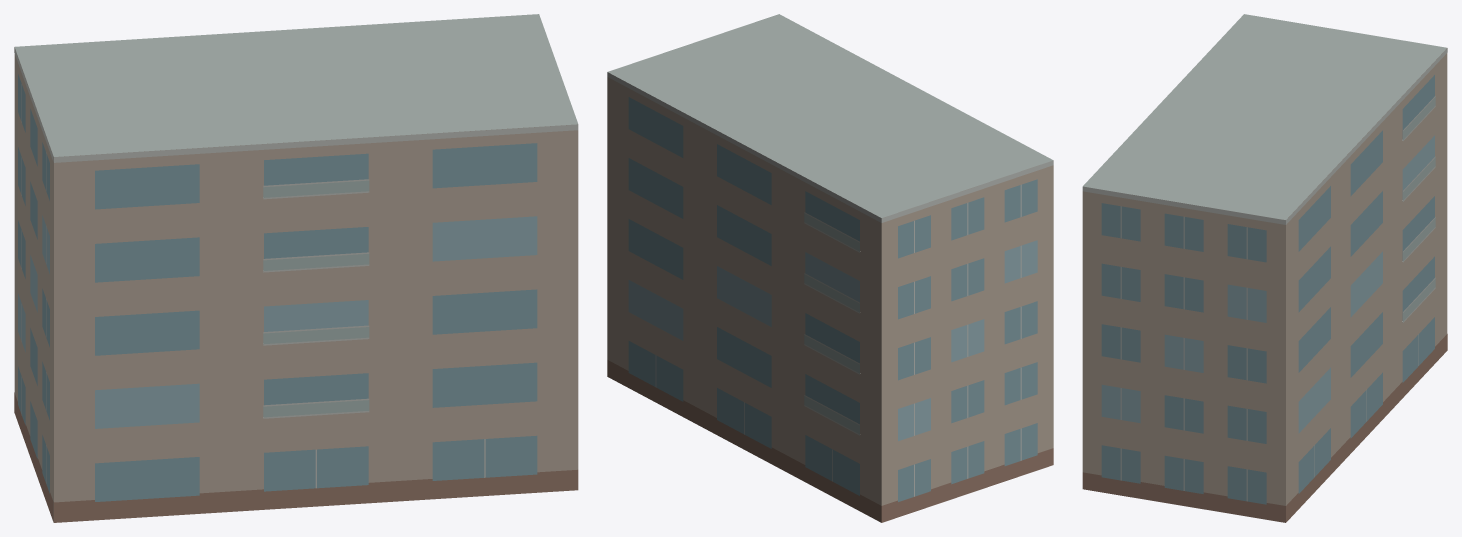
The model's file is survey-upis-32981502.glb.
3 views of the same model, side by side, from view 1: azimuth 30°, elevation 25°; view 2: azimuth 150°, elevation 25°; view 3: azimuth 270°, elevation 25° (orthographic). The views are drawn at different scales.
Parts seen in each view (by area): view 1: survey-upis-32981502.tmp; view 2: survey-upis-32981502.tmp; view 3: survey-upis-32981502.tmp.
Part boxes in pixels (x1,y1,x2,y2): survey-upis-32981502.tmp: (14,14,578,522); survey-upis-32981502.tmp: (607,14,1053,522); survey-upis-32981502.tmp: (1082,14,1447,522).
Bounding box in the file's own units: 22.29 × 15.25 × 16.67.
